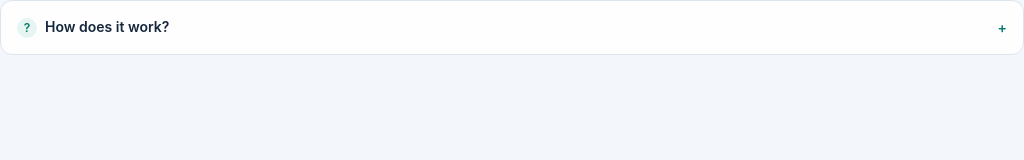
Scenario: reveals contextual guidance on demand with accessible expanded state
The image size is (1024, 160).
Expected: the text "This is model guidance." is not shown
Click the button "? How does it work? +": point(107, 26) [17, 17, 1007, 38]
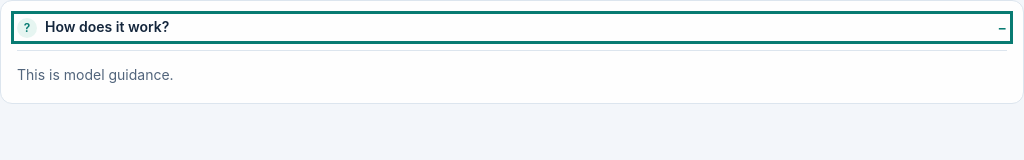
Expected: the button "? How does it work? −" is expanded, [17, 17, 1007, 38]
Expected: the text "This is model guidance." is shown, [17, 50, 1007, 87]
